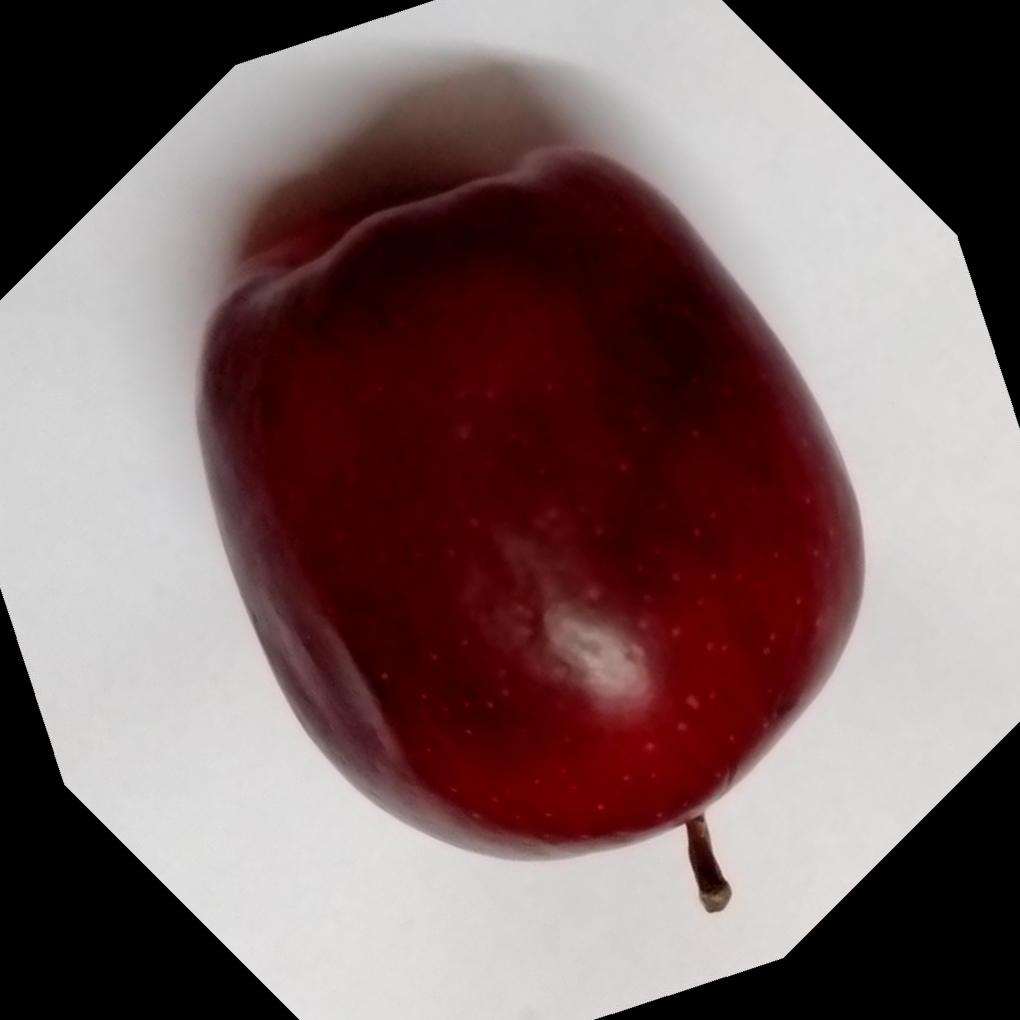FreshOrange: (193, 138, 865, 860)
